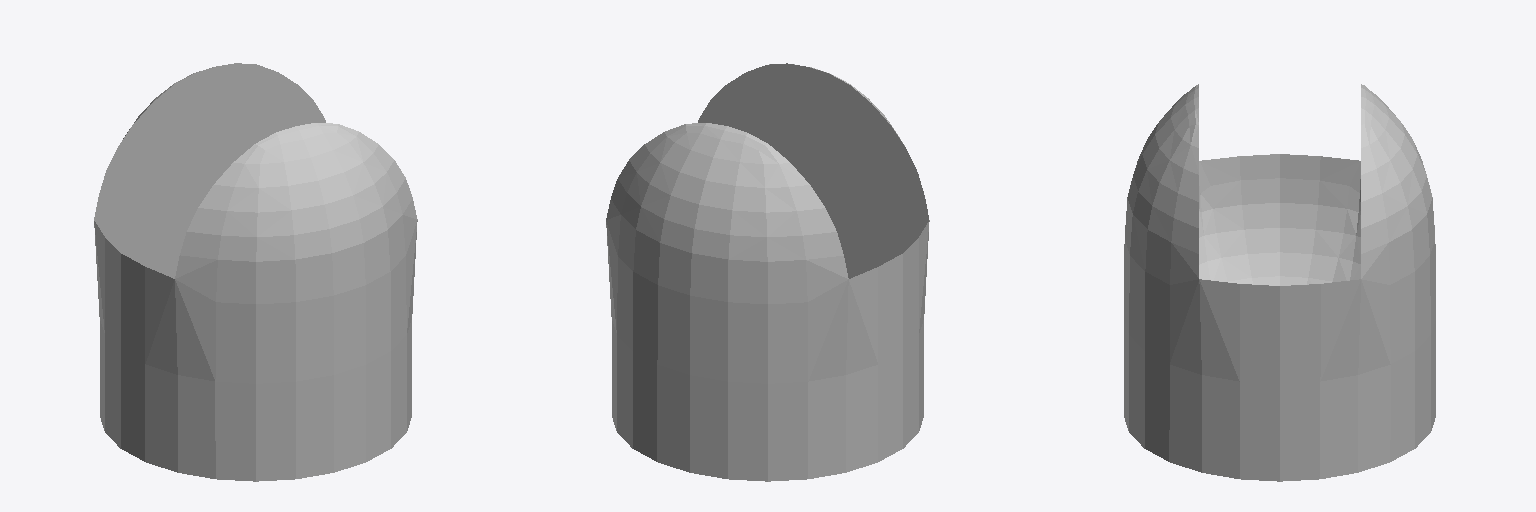
The model's file is Tr-LeverBaseZX.obj.
The picture shows the model from 3 angles: view 1: azimuth 30°, elevation 25°; view 2: azimuth 150°, elevation 25°; view 3: azimuth 270°, elevation 25°; orthographic projection.
Visible parts, largest first — view 1: Tr-LeverBaseZX_BaseLevier.006; view 2: Tr-LeverBaseZX_BaseLevier.006; view 3: Tr-LeverBaseZX_BaseLevier.006.
Boxes of the visible parts, box(x1,y1,x2,y2) form: Tr-LeverBaseZX_BaseLevier.006: box(94, 63, 417, 481); Tr-LeverBaseZX_BaseLevier.006: box(606, 63, 929, 481); Tr-LeverBaseZX_BaseLevier.006: box(1124, 84, 1435, 481).
Size of the model in its own units: 0.0725 by 0.0816 by 0.0725.